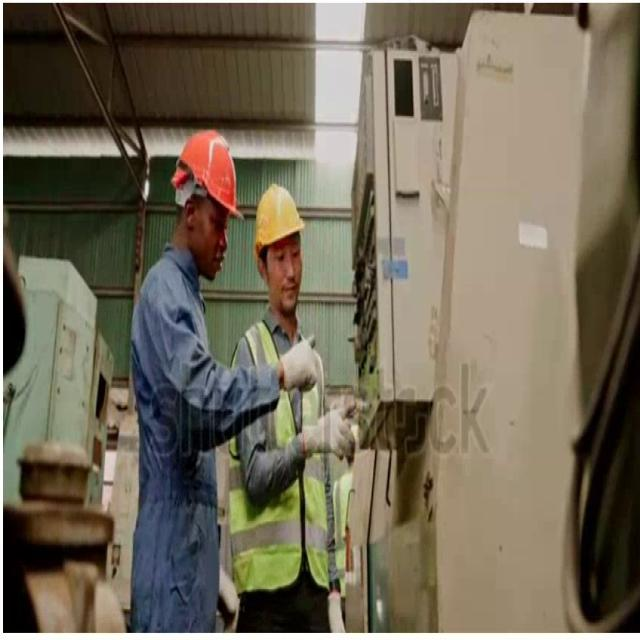gloved: (302, 406, 355, 461), (278, 336, 318, 392), (217, 565, 240, 631), (327, 589, 345, 633)
